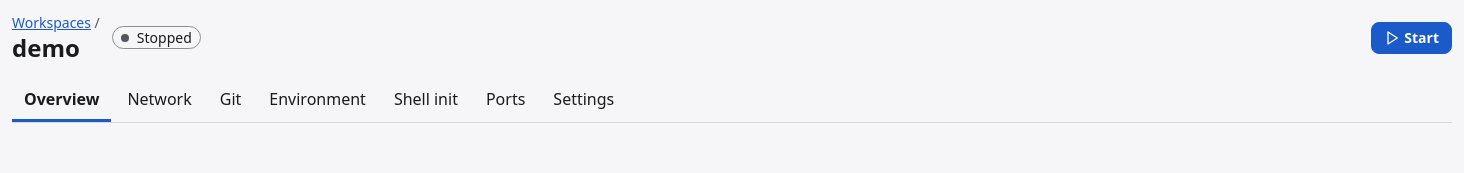
Test case: the detail layout › shows the progress line while something runs and says Start for a stopped workspace
Click the button named "Start demo" at (1412, 38), box [1371, 22, 1452, 54]
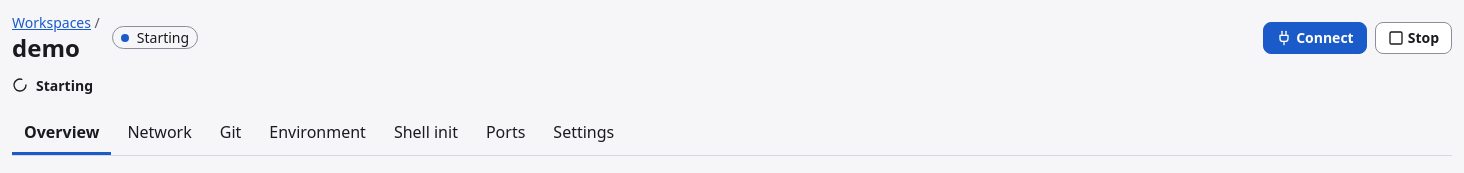
Expected: the message reads "Starting", [36, 76, 93, 95]
